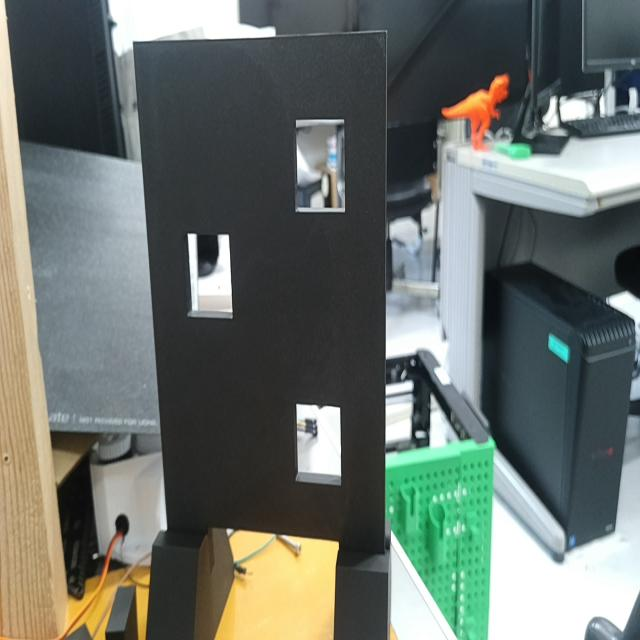Obstacle: (294, 119, 346, 213), (187, 233, 233, 319), (295, 403, 342, 487)
Wall: (134, 31, 387, 547)
